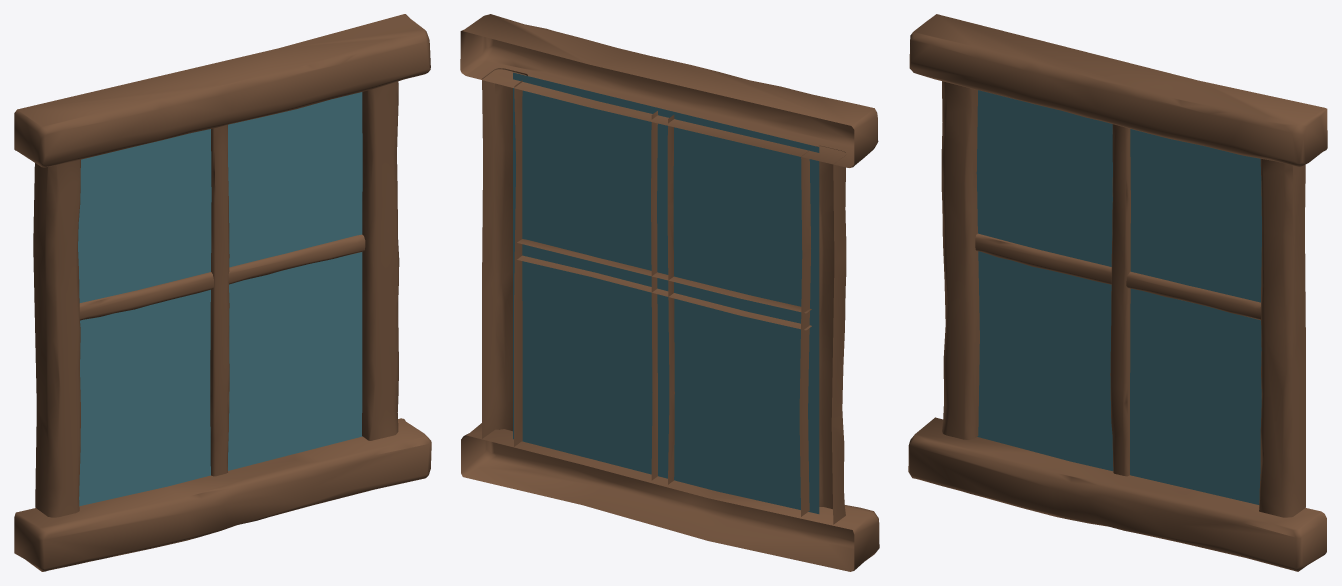
Rendered from mod_ventana.fbx.
3 renders of one model, left to right at view 1: azimuth 30°, elevation 25°; view 2: azimuth 150°, elevation 25°; view 3: azimuth 330°, elevation 25°, orthographic.
Visible parts, largest first — view 1: Ventana1_low; view 2: Ventana1_low; view 3: Ventana1_low.
Part boxes in pixels (x1,y1,x2,y2): Ventana1_low: [14, 14, 431, 571]; Ventana1_low: [460, 14, 879, 571]; Ventana1_low: [908, 14, 1327, 571].
Bounding box in the file's own units: 118 × 129 × 14.66.
